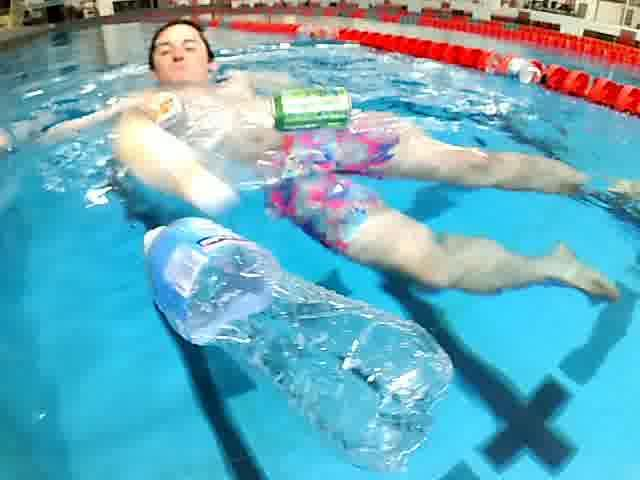Bottle: (133, 209, 455, 479)
Can: (266, 81, 364, 138)
